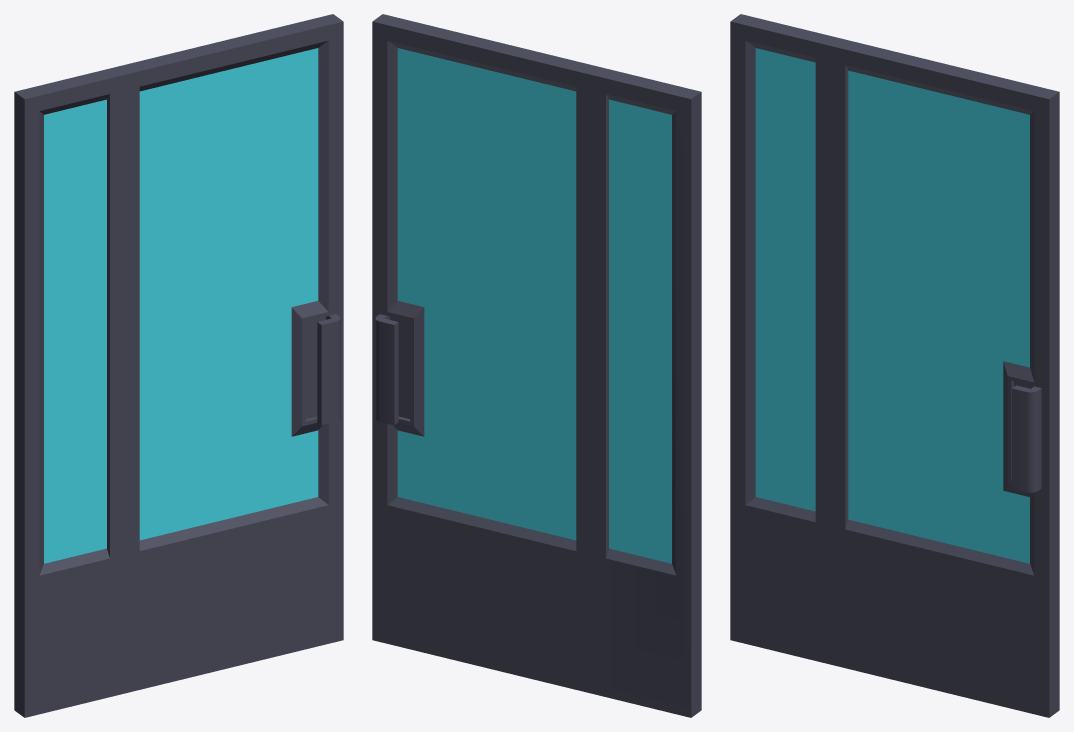
File: SM_Buildings_Commercial_Door_01_L.fbx
3 renders of one model, left to right at view 1: azimuth 30°, elevation 25°; view 2: azimuth 150°, elevation 25°; view 3: azimuth 330°, elevation 25°, orthographic.
Visible parts, largest first — view 1: SM_Buildings_Commercial_Door_01_L; view 2: SM_Buildings_Commercial_Door_01_L; view 3: SM_Buildings_Commercial_Door_01_L.
Part boxes in pixels (x1,y1,x2,y2): SM_Buildings_Commercial_Door_01_L: [14, 14, 343, 717]; SM_Buildings_Commercial_Door_01_L: [372, 14, 701, 717]; SM_Buildings_Commercial_Door_01_L: [730, 14, 1059, 717].
Bounding box in the file's own units: 1.08 × 1.99 × 0.15.
